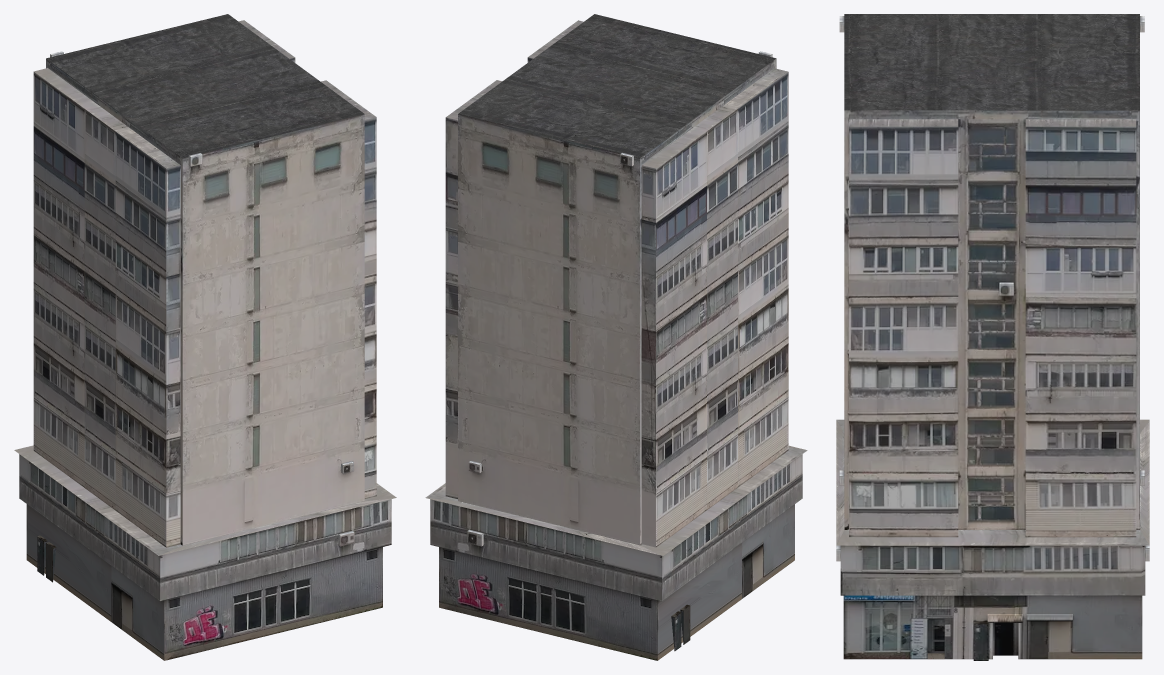
Rendered from res2_o.glb.
3 views of the same model, side by side, from view 1: azimuth 30°, elevation 25°; view 2: azimuth 150°, elevation 25°; view 3: azimuth 270°, elevation 25° (orthographic). The views are drawn at different scales.
Visible parts, largest first — view 1: Cube_building9storey_0, Cube_grey_0; view 2: Cube_building9storey_0, Cube_grey_0; view 3: Cube_building9storey_0, Cube_grey_0.
Boxes of the visible parts, x1,y1,x2,y2 form: Cube_building9storey_0: (14, 20, 396, 660); Cube_grey_0: (46, 14, 364, 158); Cube_building9storey_0: (425, 20, 807, 660); Cube_grey_0: (458, 14, 775, 157); Cube_building9storey_0: (836, 16, 1149, 660); Cube_grey_0: (844, 14, 1139, 110).
Size of the model in its own units: 1420 by 2842 by 1494.
2 materials, 2 textured.
